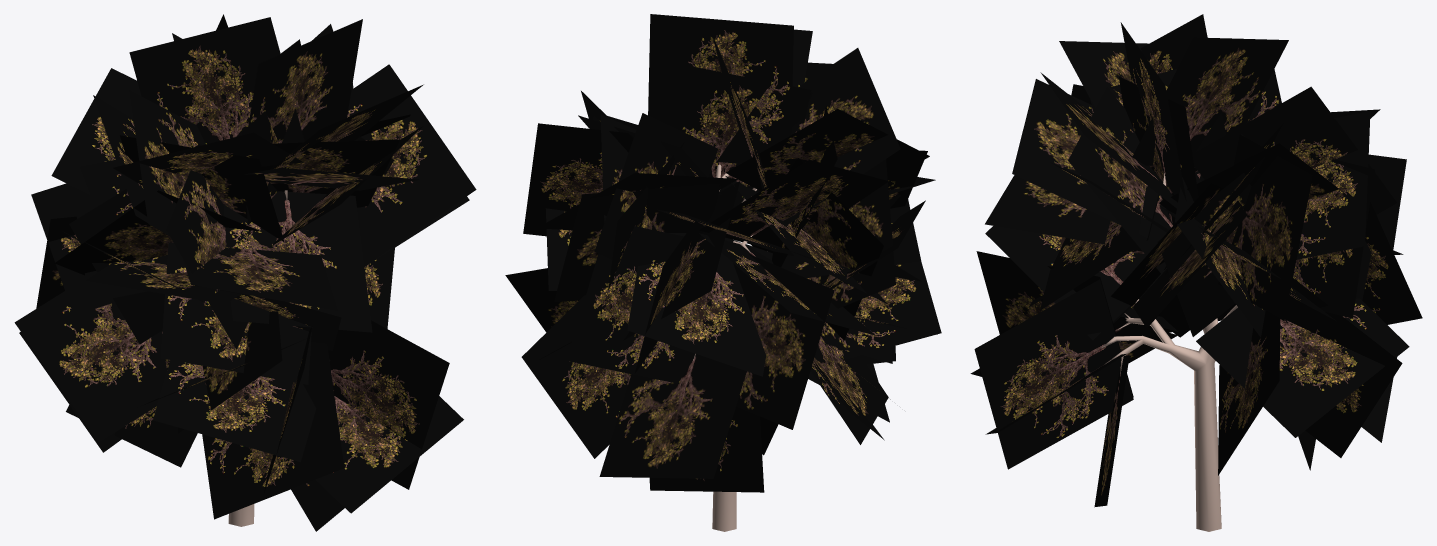
Rendered from tree29.glb.
3 renders of one model, left to right at view 1: azimuth 30°, elevation 25°; view 2: azimuth 150°, elevation 25°; view 3: azimuth 270°, elevation 25°, orthographic. The views are drawn at different scales.
Size of the model in its own units: 5.83 by 7.24 by 5.95.
Materials: 2 (1 with a texture image).
